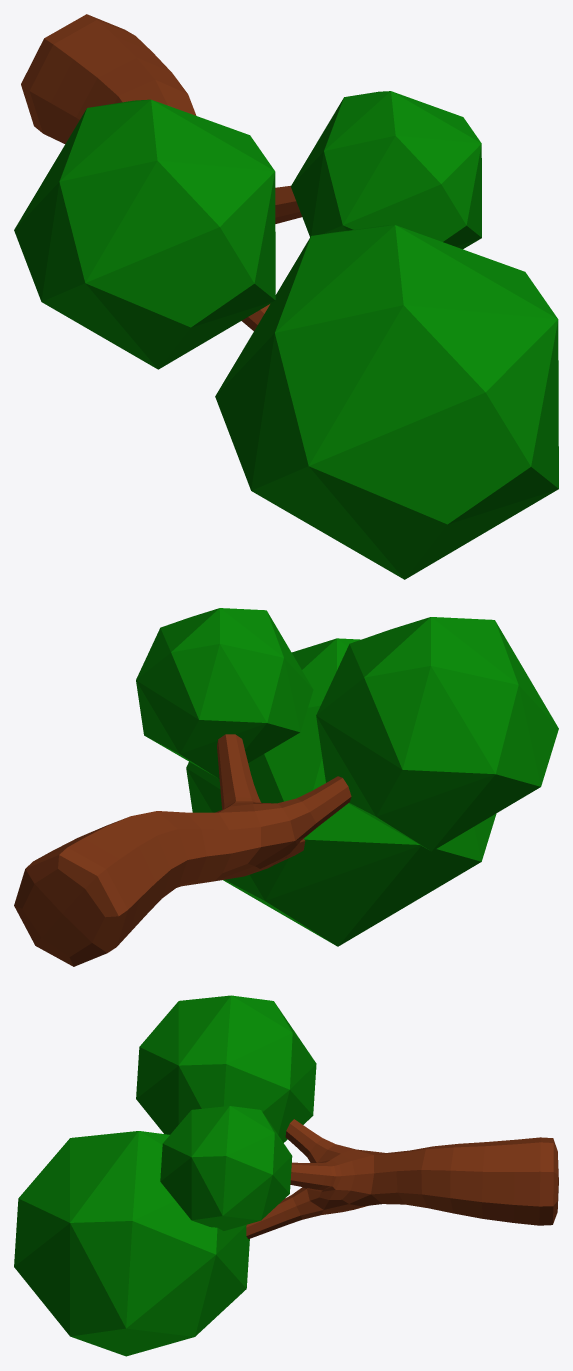
The model's file is asset.glb.
3 renders of one model, top to bottom at view 1: azimuth 30°, elevation 25°; view 2: azimuth 150°, elevation 25°; view 3: azimuth 270°, elevation 25°, orthographic. The views are drawn at different scales.
Parts seen in each view (by area): view 1: Icosphere.001; view 2: Icosphere.001; view 3: Icosphere.001.
Boxes of the visible parts, <box> form: Icosphere.001: <box>14,14,558,579</box>; Icosphere.001: <box>14,608,558,966</box>; Icosphere.001: <box>14,995,558,1356</box>.
Bounding box in the file's own units: 0.3692 × 0.3607 × 0.586.
